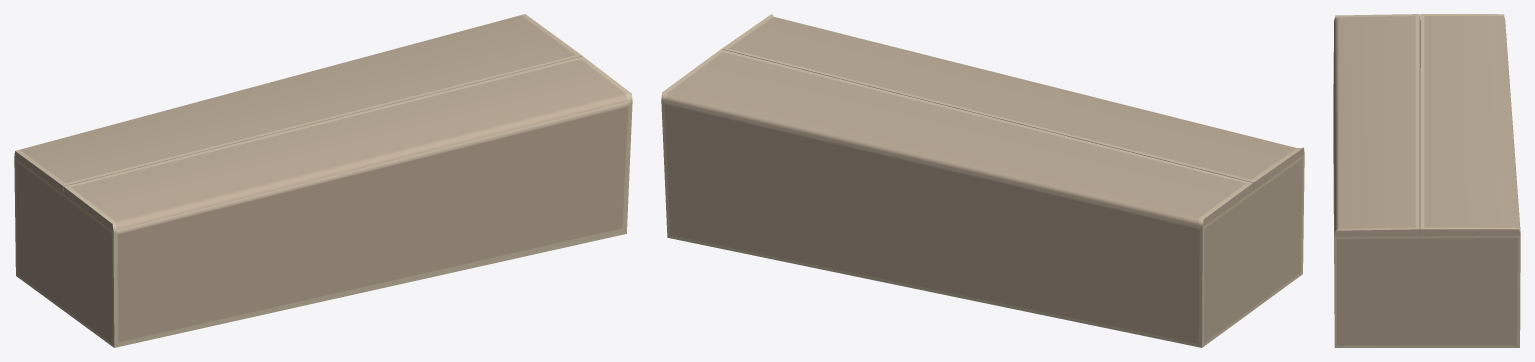
File: BoxJ.glb
The picture shows the model from 3 angles, left to right: view 1: azimuth 30°, elevation 25°; view 2: azimuth 150°, elevation 25°; view 3: azimuth 270°, elevation 25°; orthographic projection. The views are drawn at different scales.
Visible parts, largest first — view 1: BoxJ; view 2: BoxJ; view 3: BoxJ.
Boxes of the visible parts, bbox=[...] form: BoxJ: bbox=[14, 14, 632, 347]; BoxJ: bbox=[661, 14, 1304, 347]; BoxJ: bbox=[1333, 14, 1520, 347].
Size of the model in its own units: 2.33 by 0.6008 by 0.8435.
